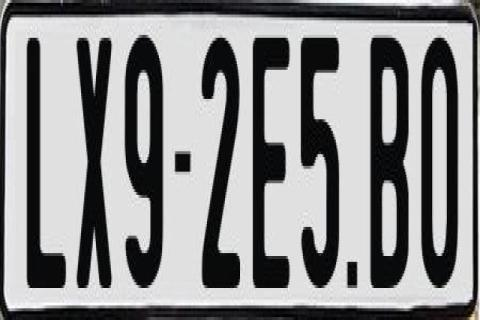0: (199, 38, 240, 306), (419, 32, 460, 296), (125, 32, 166, 288), (298, 38, 336, 294)
B: (367, 38, 411, 300)
E: (250, 29, 287, 294)
L: (26, 32, 70, 282)
X: (77, 32, 116, 285)
